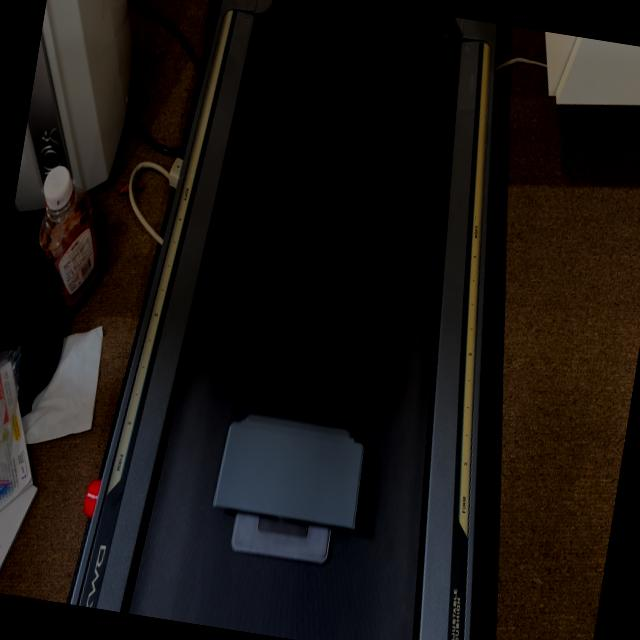Trash: (203, 407, 372, 578)
